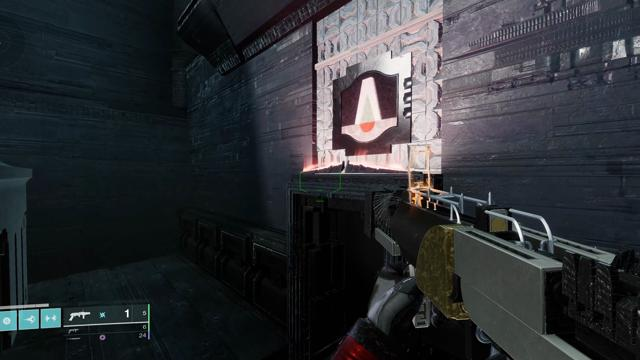enter: (341, 71, 398, 143)
